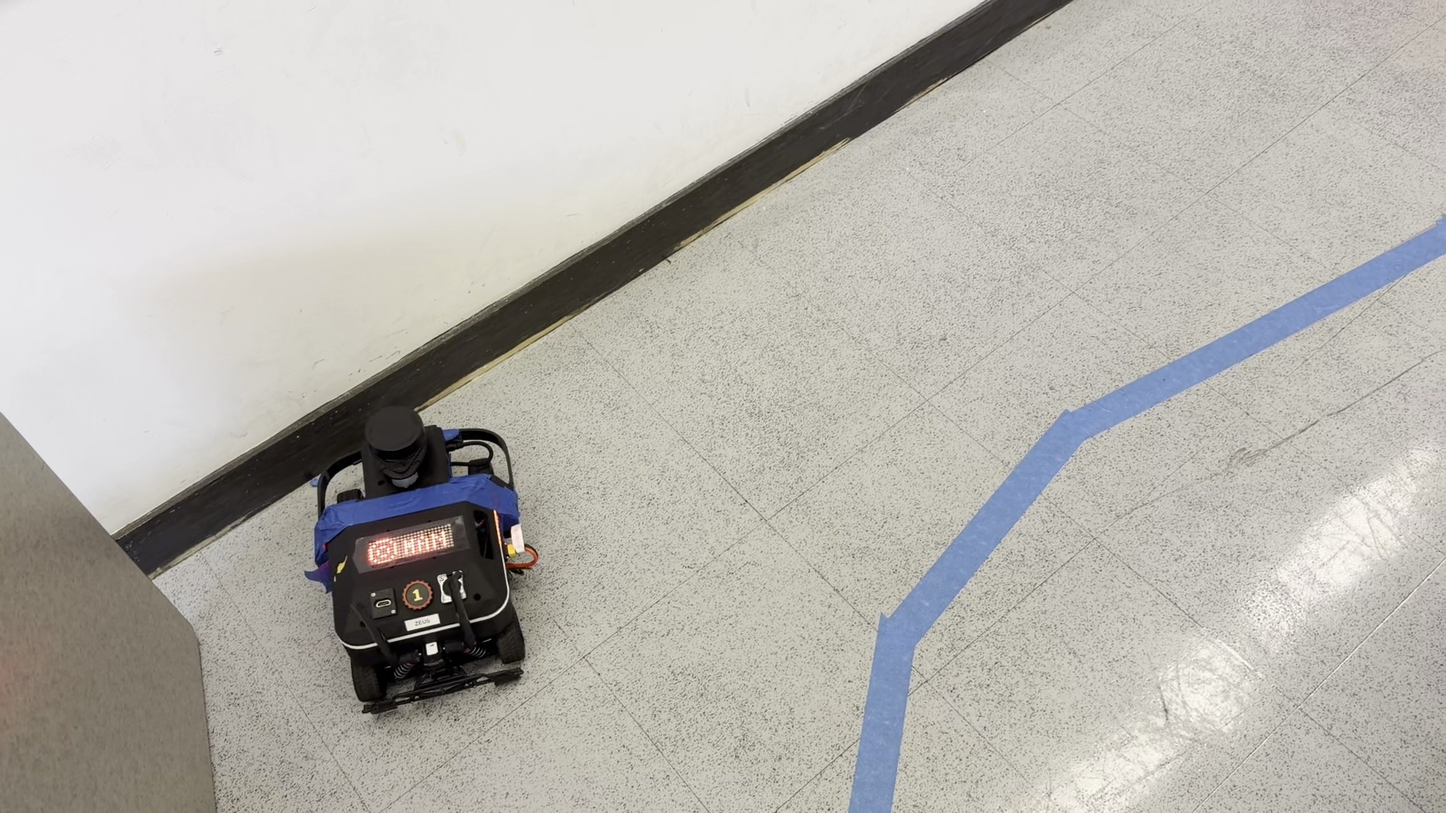racecar: (308, 419, 537, 709)
